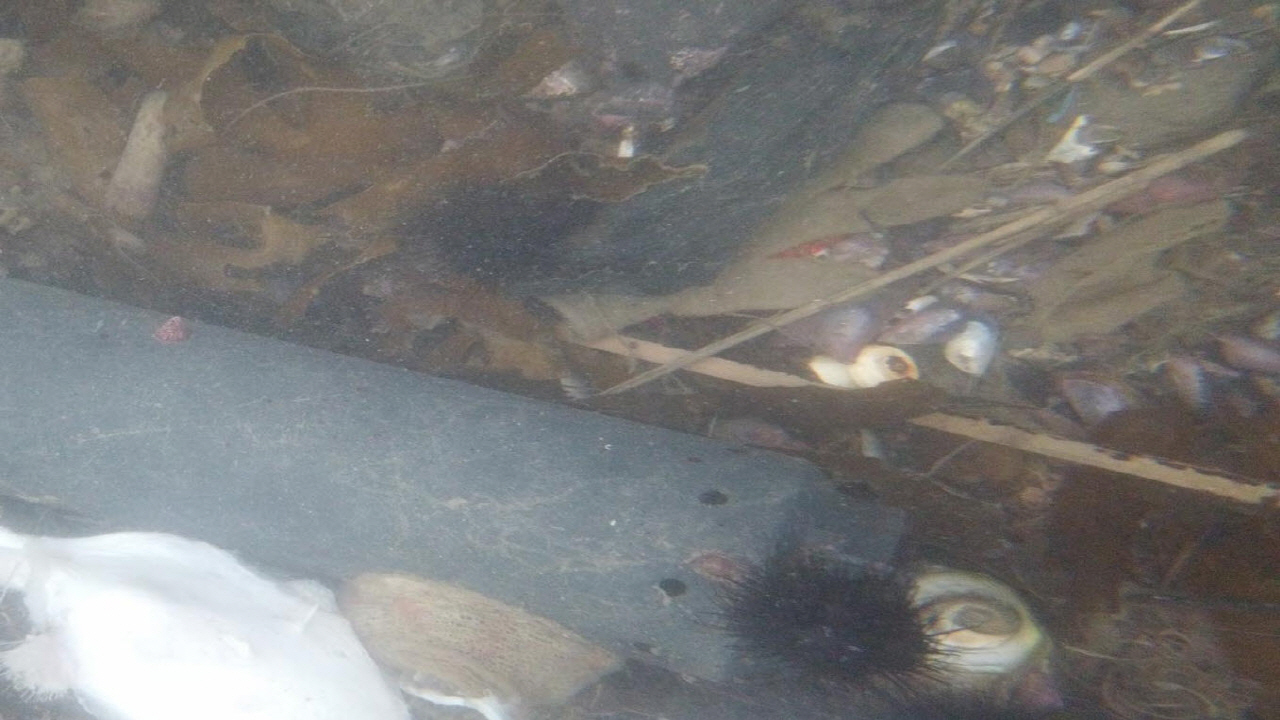eel fish trap: (1, 279, 909, 688)
